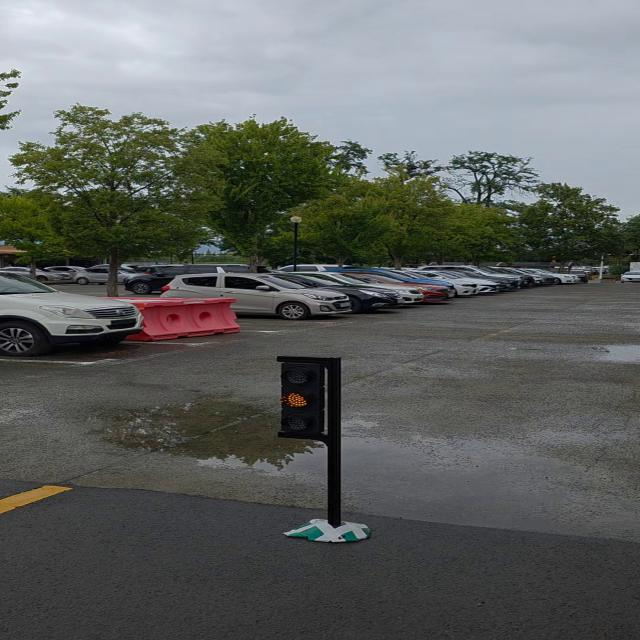yellow: (277, 358, 329, 438)
